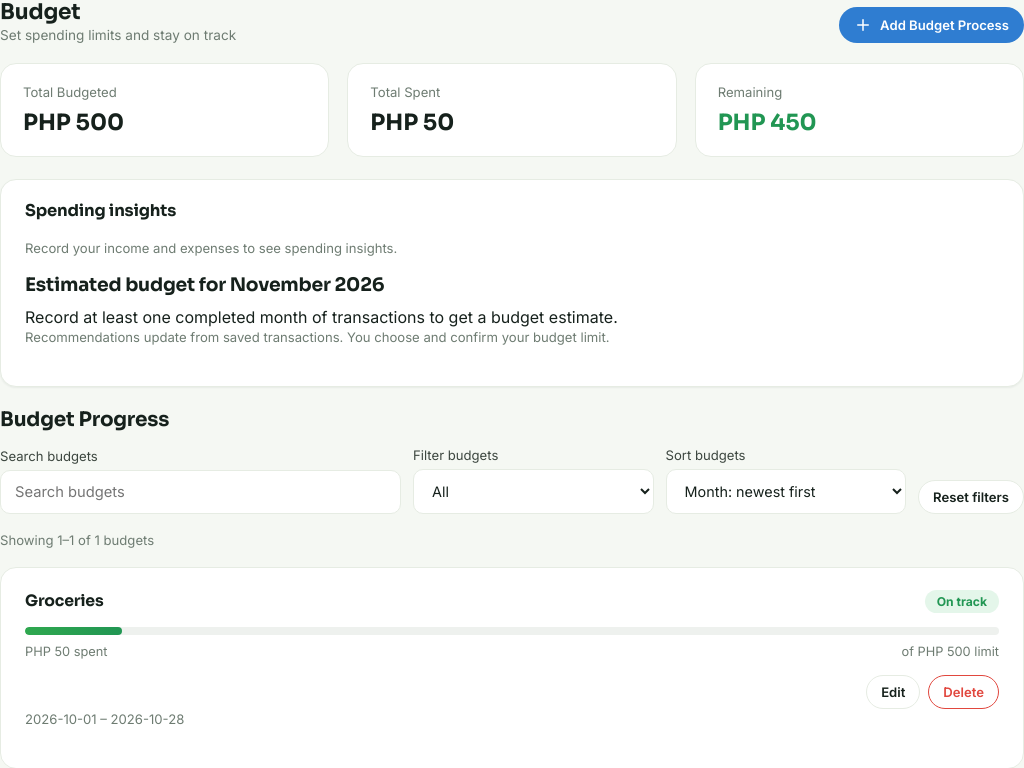
prefills month-based budget editing and saves the changed monthly limit
Click the button with aria-label "Edit Groceries budget". click: (893, 692)
box: [866,675,920,709]
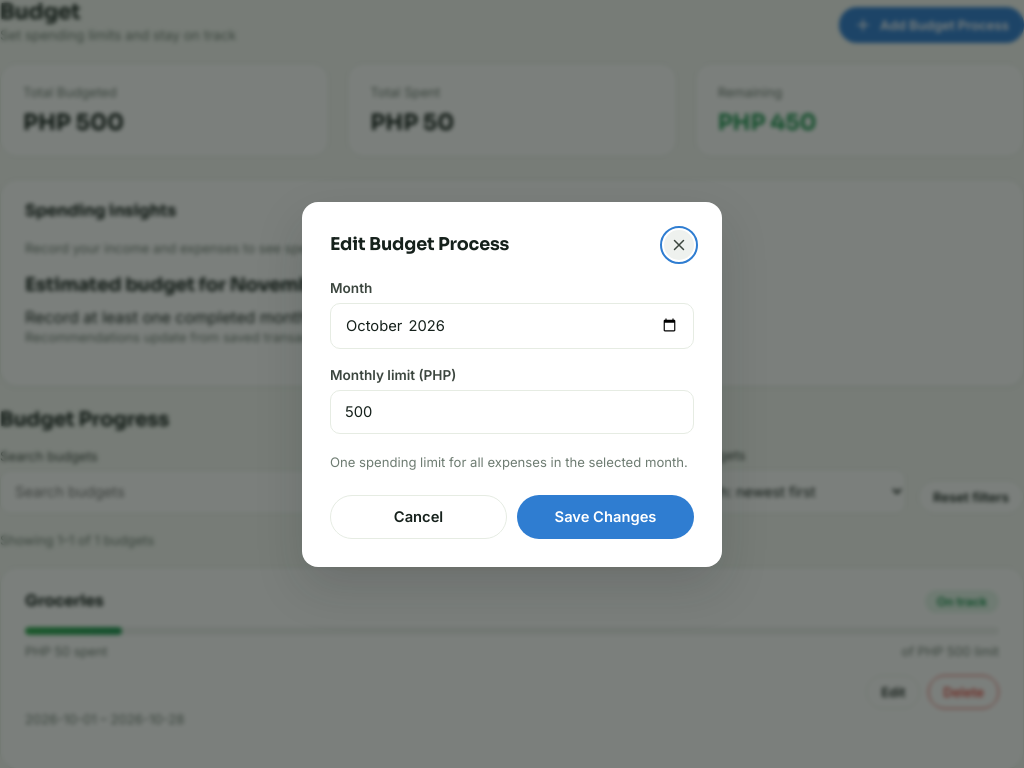
Check: the field labelled "Month" holds "2026-10", box [330,302,694,348]
Replace the text in the number field labelled "Monthly limit (PHP)" with "650". click: (512, 412)
box: [330,390,694,434]
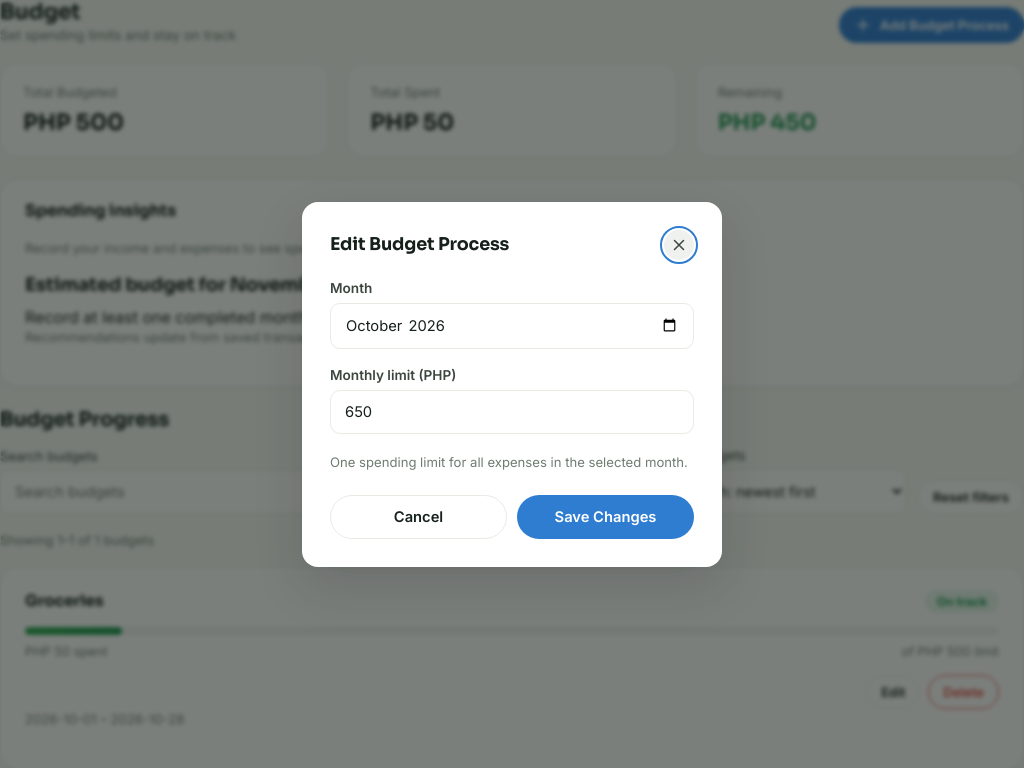
Click the button "Save Changes". click: (606, 516)
box: [517,494,694,538]
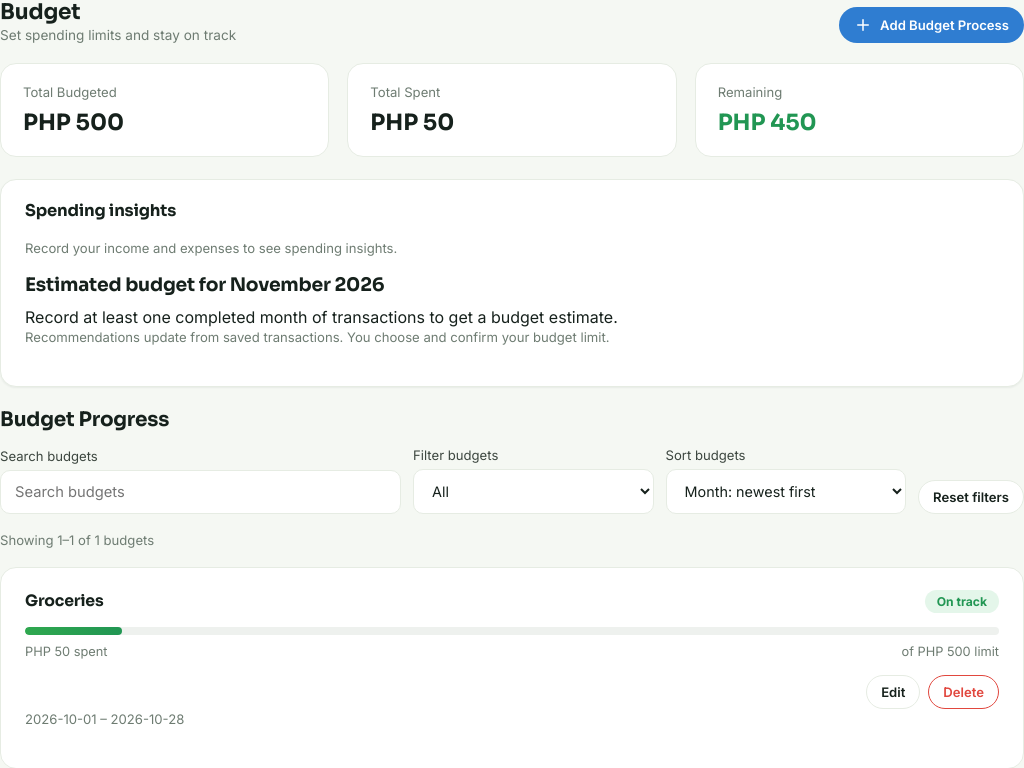
Check: the dialog is gone
